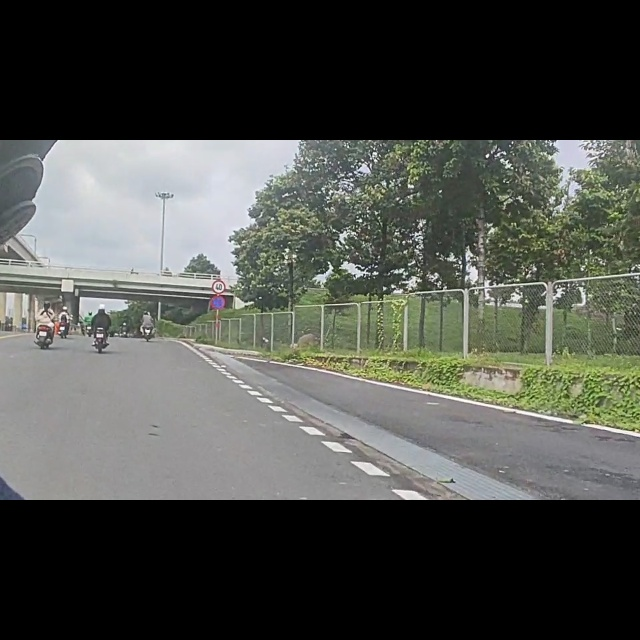bien_cam: (211, 249, 227, 274), (210, 277, 225, 302)
